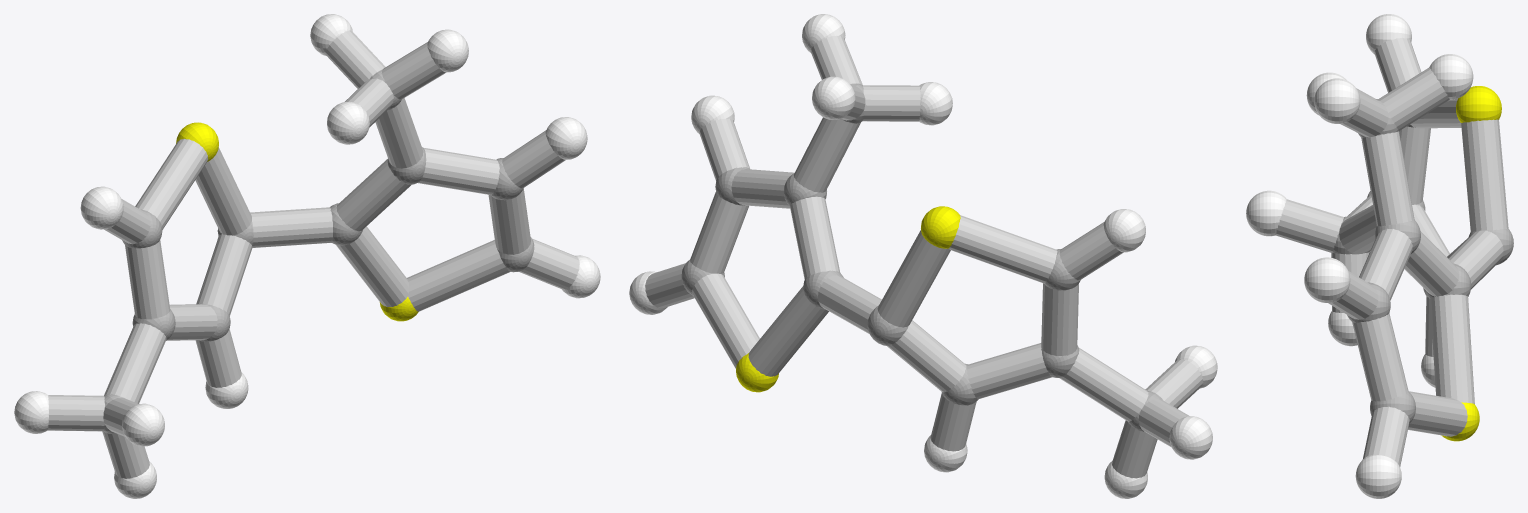
Rendered from Methylthiophene_Phi_50_Theta_30_Methylthiophene.glb.
The picture shows the model from 3 angles, left to right: view 1: azimuth 30°, elevation 25°; view 2: azimuth 150°, elevation 25°; view 3: azimuth 270°, elevation 25°; orthographic projection. The views are drawn at different scales.
Visible parts, largest first — view 1: grp7965, grp3621, grp1, grp7241; view 2: grp7965, grp3621, grp1, grp7241; view 3: grp7965, grp3621, grp1, grp7241.
Part boxes in pixels (box(x1,y1,x2,y2)): grp7965: box(47, 30, 579, 478); grp3621: box(14, 14, 600, 498); grp1: box(103, 69, 534, 433); grp7241: box(176, 122, 418, 321); grp7965: box(645, 35, 1203, 478); grp3621: box(629, 14, 1217, 498); grp1: box(681, 83, 1163, 431); grp7241: box(736, 206, 960, 392); grp7965: box(1275, 37, 1508, 466); grp3621: box(1246, 14, 1473, 498); grp1: box(1333, 99, 1513, 423); grp7241: box(1441, 86, 1501, 441).
Bounding box in the file's own units: 9.25 × 6.08 × 3.48.
